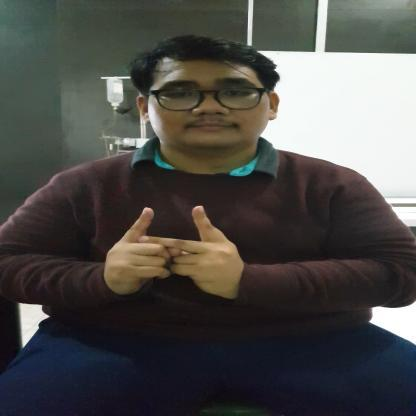H: (99, 203, 247, 299)
